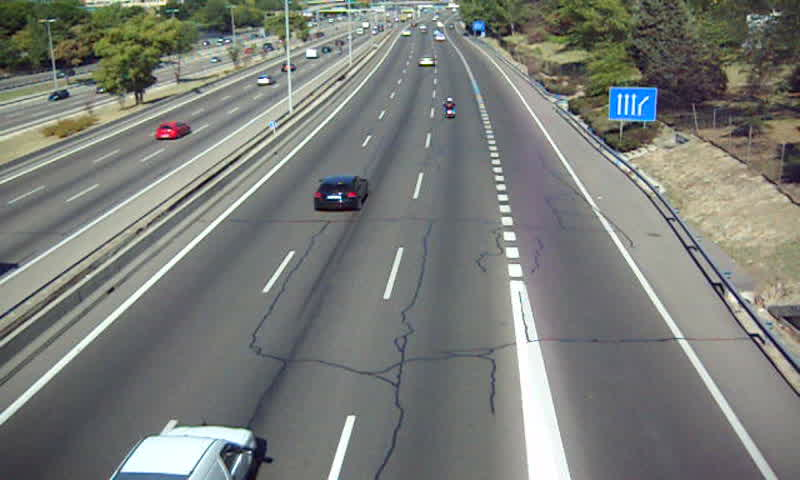car: (312, 176, 368, 211), (418, 56, 435, 69)
motorcycle: (442, 96, 459, 120)
